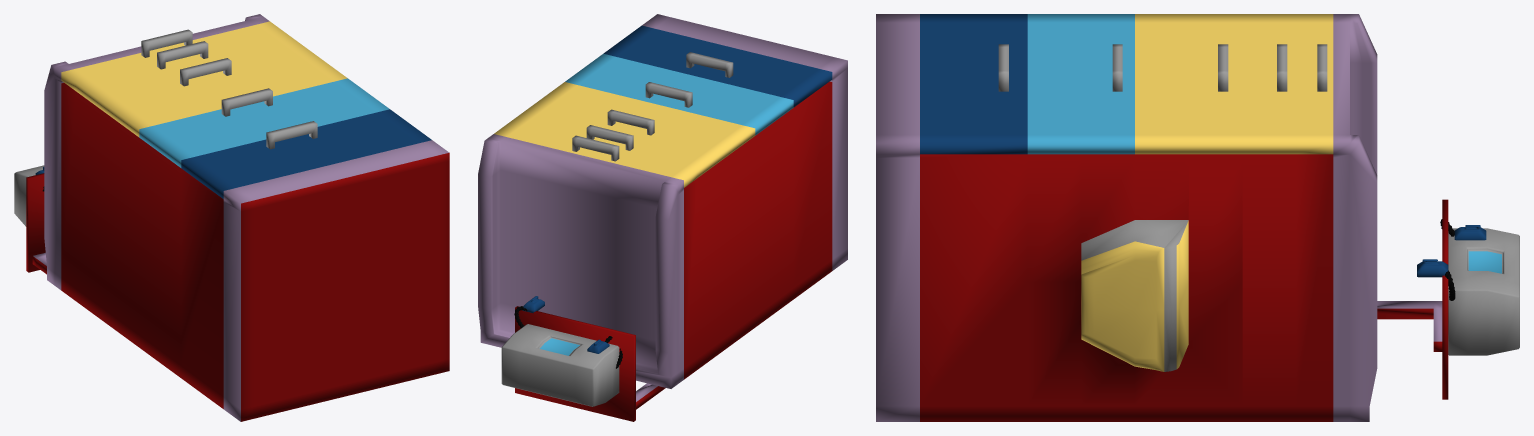
The model's file is ТЭП.fbx.
3 renders of one model, left to right at view 1: azimuth 30°, elevation 25°; view 2: azimuth 150°, elevation 25°; view 3: azimuth 270°, elevation 25°, orthographic. The views are drawn at different scales.
Parts seen in each view (by area): view 1: Circle.002; view 2: Circle.002; view 3: Circle.002.
Part boxes in pixels (bbox=[...]): Circle.002: bbox=[14, 14, 449, 421]; Circle.002: bbox=[478, 14, 847, 421]; Circle.002: bbox=[876, 14, 1519, 421].
Bounding box in the file's own units: 82.75 × 77.31 × 143.
